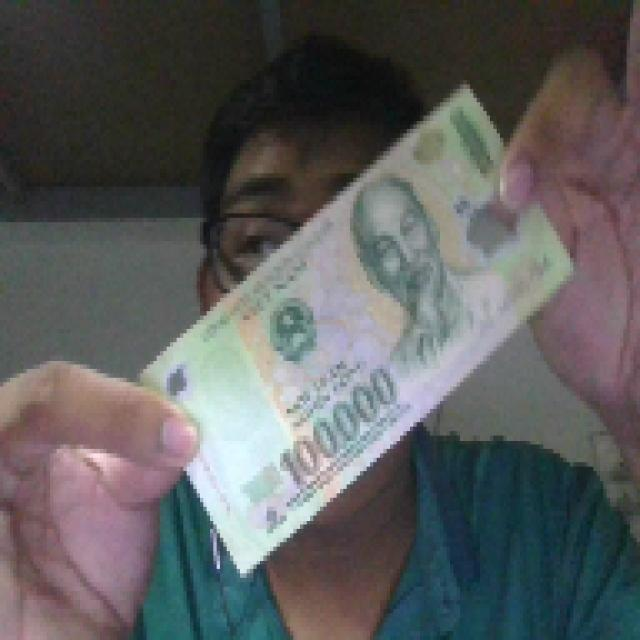100 000 VND: (133, 76, 577, 582)
